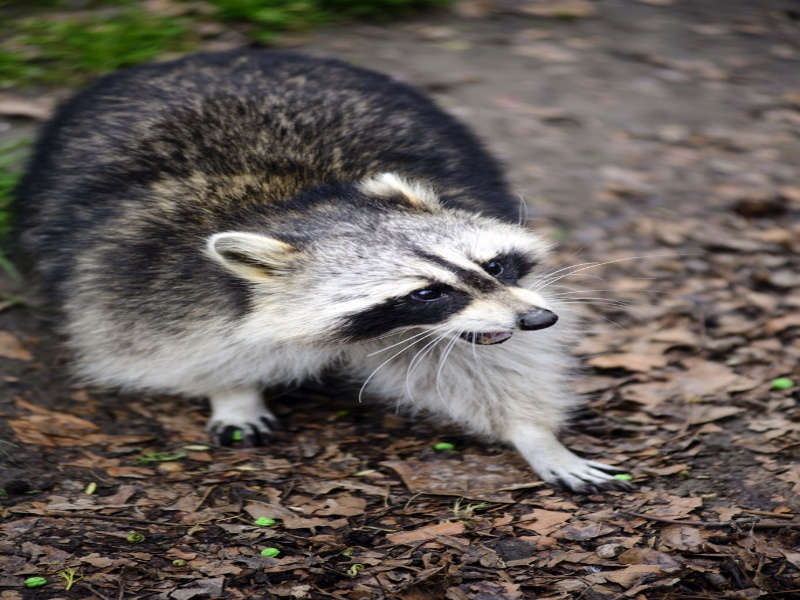raccoon: (30, 55, 633, 505)
